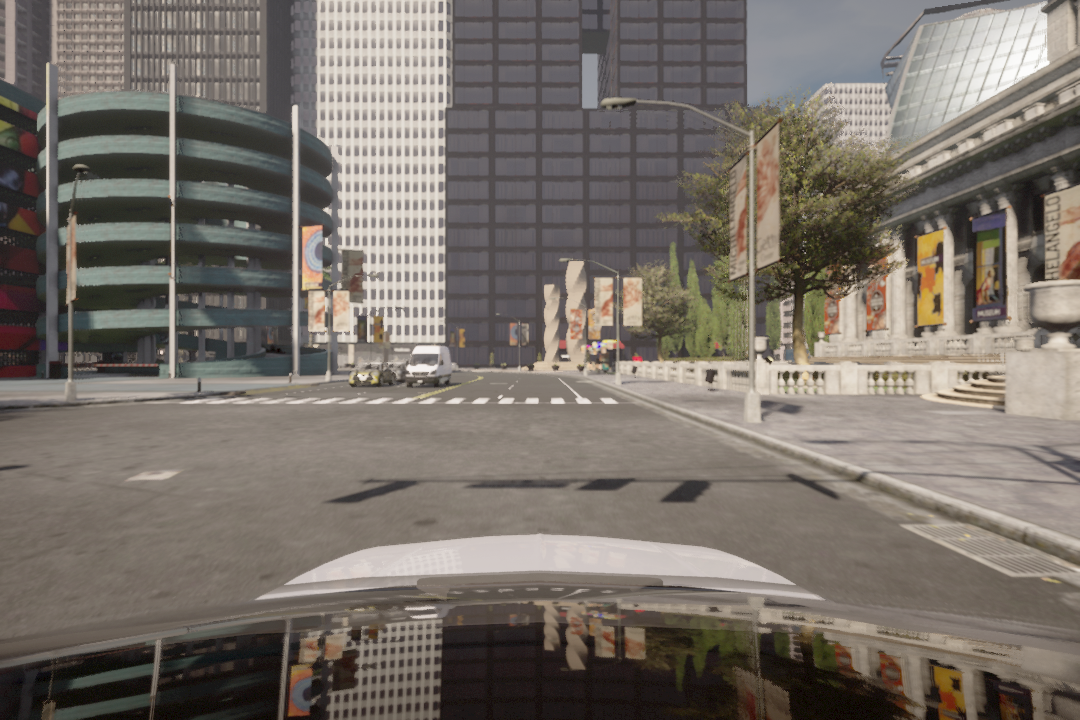walkside: (181, 394, 662, 411)
